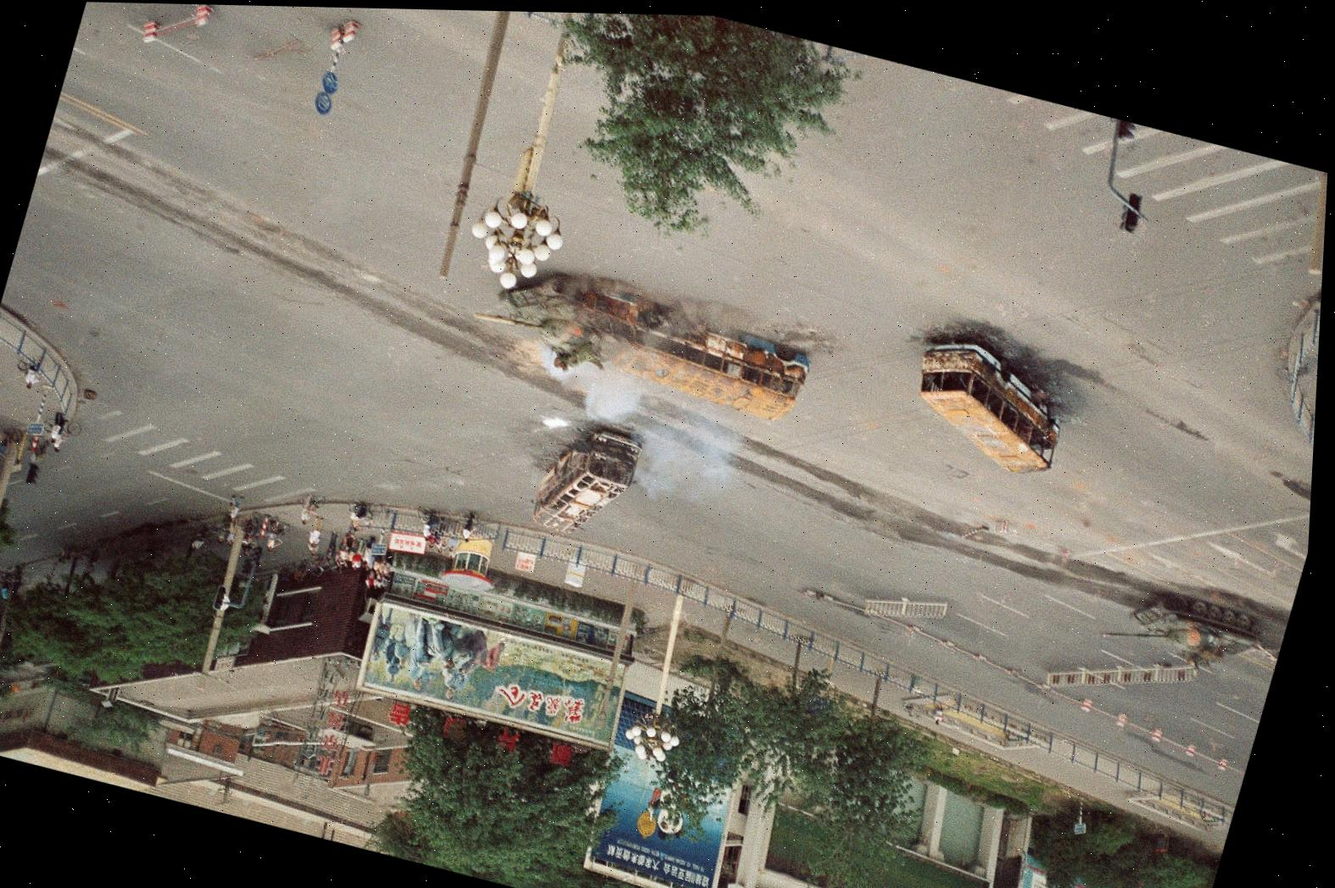tank: (453, 252, 650, 390), (1088, 572, 1270, 685)
